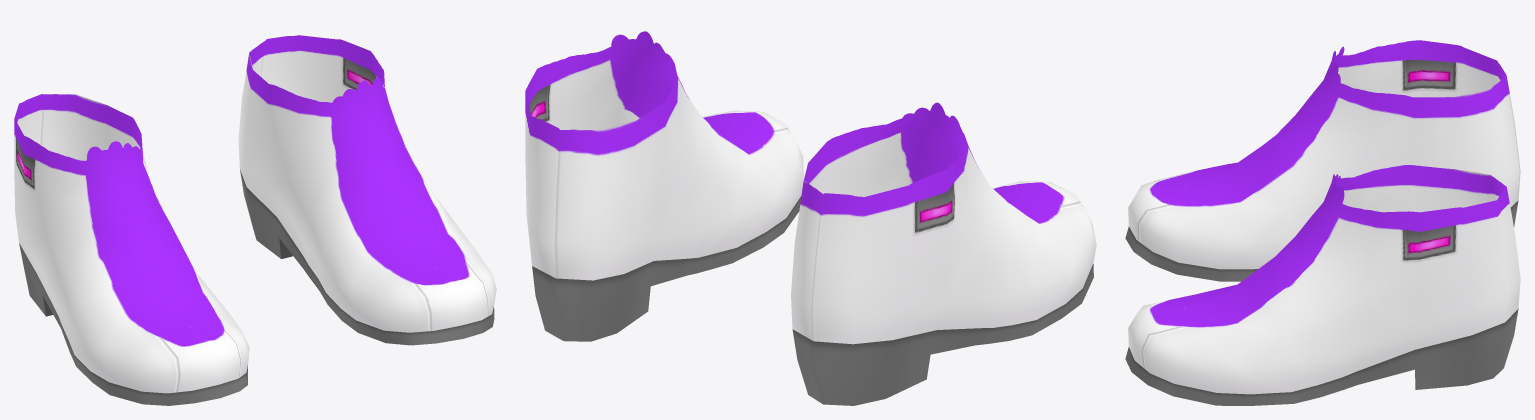
Rendered from boot-assassin.glb.
The picture shows the model from 3 angles, left to right: view 1: azimuth 30°, elevation 25°; view 2: azimuth 150°, elevation 25°; view 3: azimuth 270°, elevation 25°; orthographic projection. The views are drawn at different scales.
Parts seen in each view (by area): view 1: boot-assassin; view 2: boot-assassin; view 3: boot-assassin.
Boxes of the visible parts, x1,y1,x2,y2 form: boot-assassin: [14, 35, 496, 405]; boot-assassin: [525, 31, 1096, 405]; boot-assassin: [1125, 40, 1520, 405].
Bounding box in the file's own units: 0.2708 × 0.1423 × 0.2354.
Materials: 1 (1 with a texture image).
